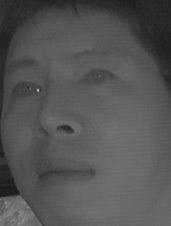eye: (78, 67, 117, 93), (7, 77, 43, 105)
mouth: (31, 155, 98, 196)
